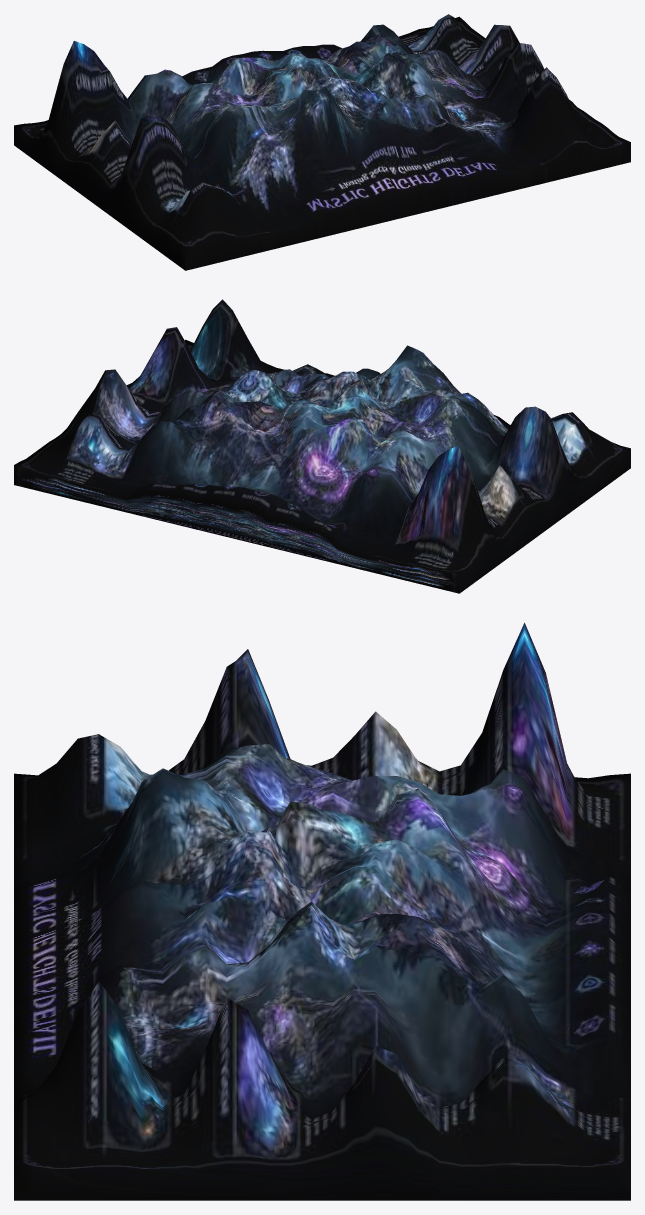
The model's file is DISTRICT_13_Mystic_Heights_Floating_Sects.glb.
3 renders of one model, top to bottom at view 1: azimuth 30°, elevation 25°; view 2: azimuth 150°, elevation 25°; view 3: azimuth 270°, elevation 25°, orthographic. The views are drawn at different scales.
Visible parts, largest first — view 1: DISTRICT_13_Mystic_Heights_Floating_Sects; view 2: DISTRICT_13_Mystic_Heights_Floating_Sects; view 3: DISTRICT_13_Mystic_Heights_Floating_Sects.
Boxes of the visible parts, x1,y1,x2,y2 form: DISTRICT_13_Mystic_Heights_Floating_Sects: (14,14,630,270); DISTRICT_13_Mystic_Heights_Floating_Sects: (14,299,630,593); DISTRICT_13_Mystic_Heights_Floating_Sects: (14,622,630,1200).
Size of the model in its own units: 2 by 0.51 by 1.33.
Materials: 1 (1 with a texture image).
